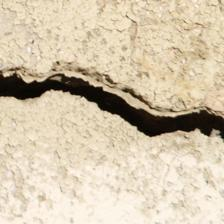Crack: (3, 28, 218, 121)
